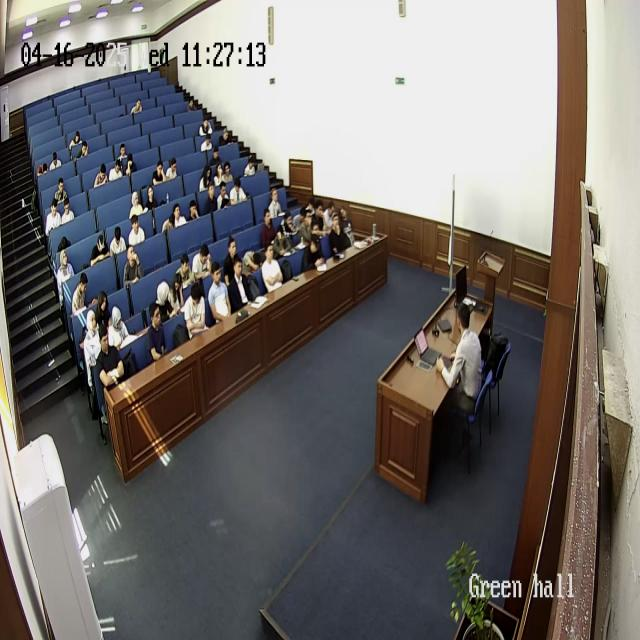person: (434, 303, 483, 416), (94, 323, 126, 401), (206, 262, 232, 324), (82, 309, 102, 386), (228, 255, 254, 313), (183, 282, 210, 337), (145, 303, 169, 363), (260, 241, 284, 293), (106, 303, 130, 352), (303, 223, 325, 271), (55, 248, 75, 300), (154, 281, 176, 325), (222, 238, 242, 286), (330, 215, 352, 258), (71, 271, 89, 321), (123, 243, 143, 288), (169, 272, 187, 318), (192, 242, 212, 282), (176, 253, 194, 295), (273, 220, 291, 262), (282, 210, 300, 252), (94, 290, 110, 337), (260, 205, 276, 248), (90, 233, 110, 267), (45, 198, 62, 236), (267, 186, 283, 226), (128, 213, 146, 248), (128, 188, 146, 220), (110, 225, 126, 259), (53, 177, 69, 211), (60, 196, 76, 228), (229, 177, 247, 205), (204, 180, 218, 215), (217, 178, 231, 212), (144, 182, 158, 215), (152, 152, 166, 185), (243, 248, 262, 272), (212, 159, 226, 189), (199, 163, 213, 191), (172, 202, 187, 228), (108, 158, 124, 182), (118, 143, 130, 174), (93, 164, 108, 188), (314, 201, 326, 231), (165, 156, 178, 182), (68, 129, 83, 151), (36, 161, 55, 178), (199, 130, 213, 153), (188, 198, 201, 222), (243, 156, 257, 178), (48, 151, 62, 173), (218, 126, 232, 148), (185, 98, 200, 118), (77, 138, 89, 162), (130, 97, 144, 115)
